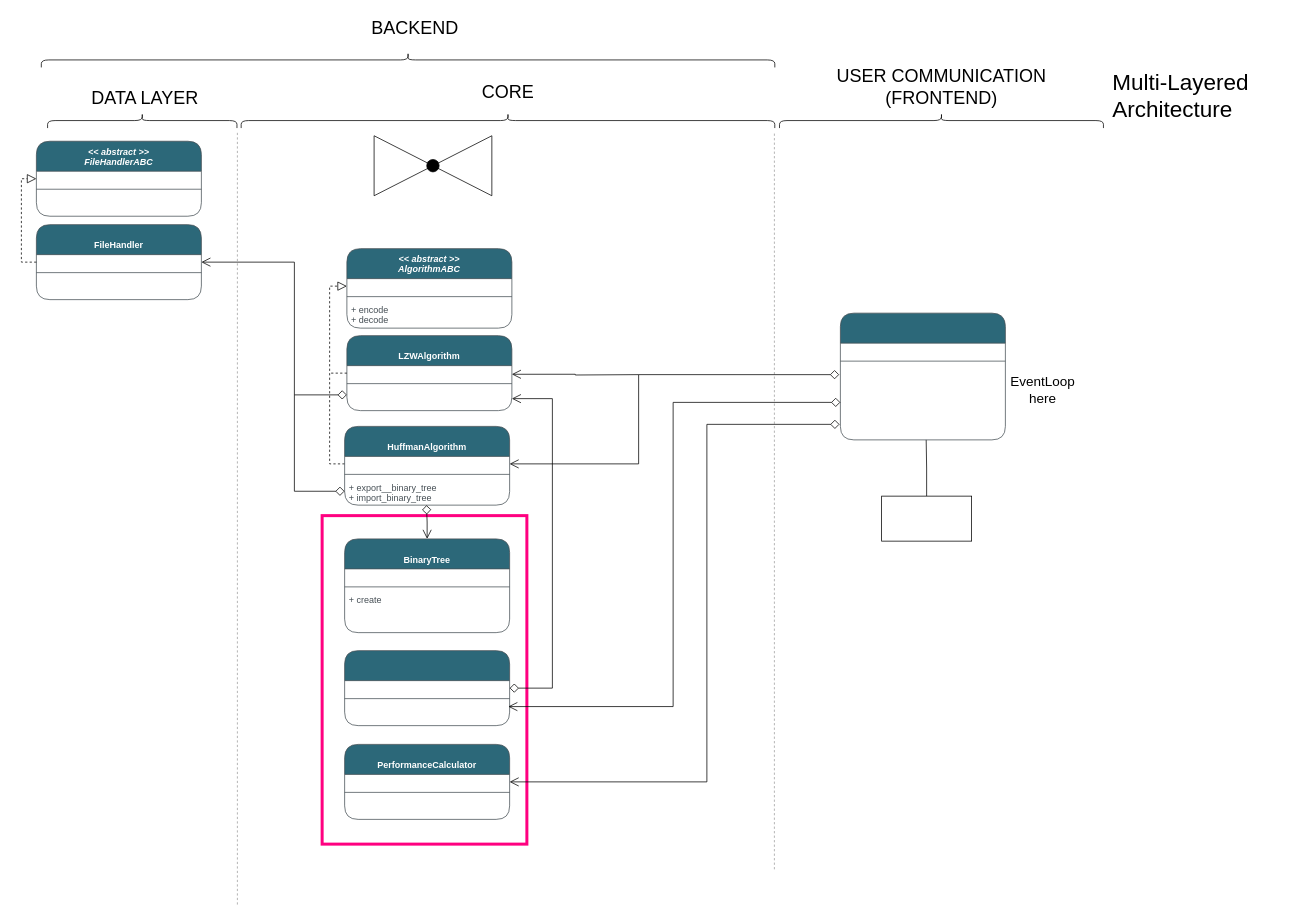
Image size: 1314x919. Some labels were removed from this diagram. Each missing label, with the centre of its shape:
Application: (922,376)
main.py: (926,518)
StreamEncoder: (427,688)
